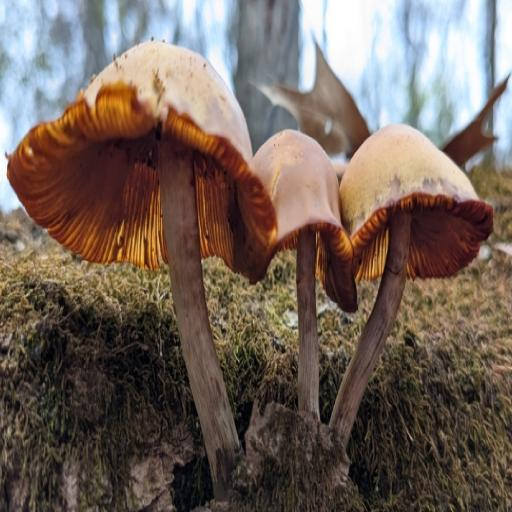mushroom: (7, 31, 500, 399)
